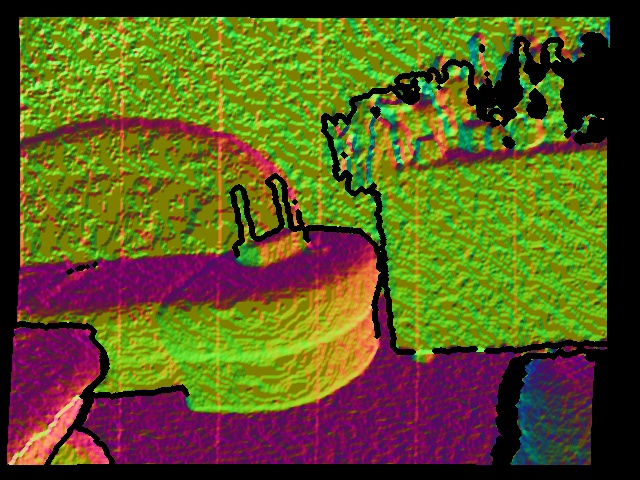station: (231, 178, 310, 266)
